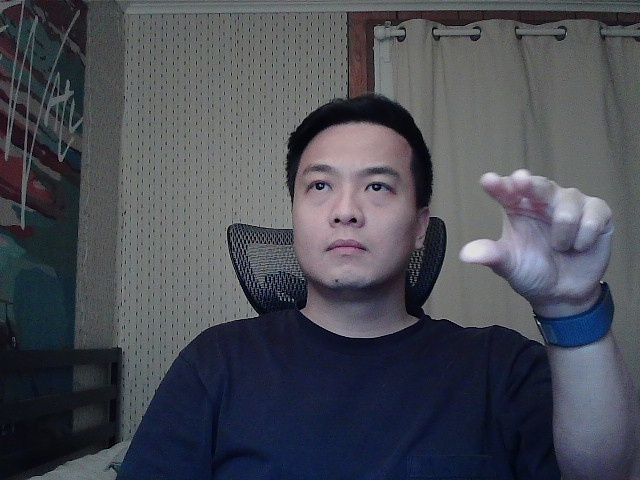No: (450, 157, 624, 308)
